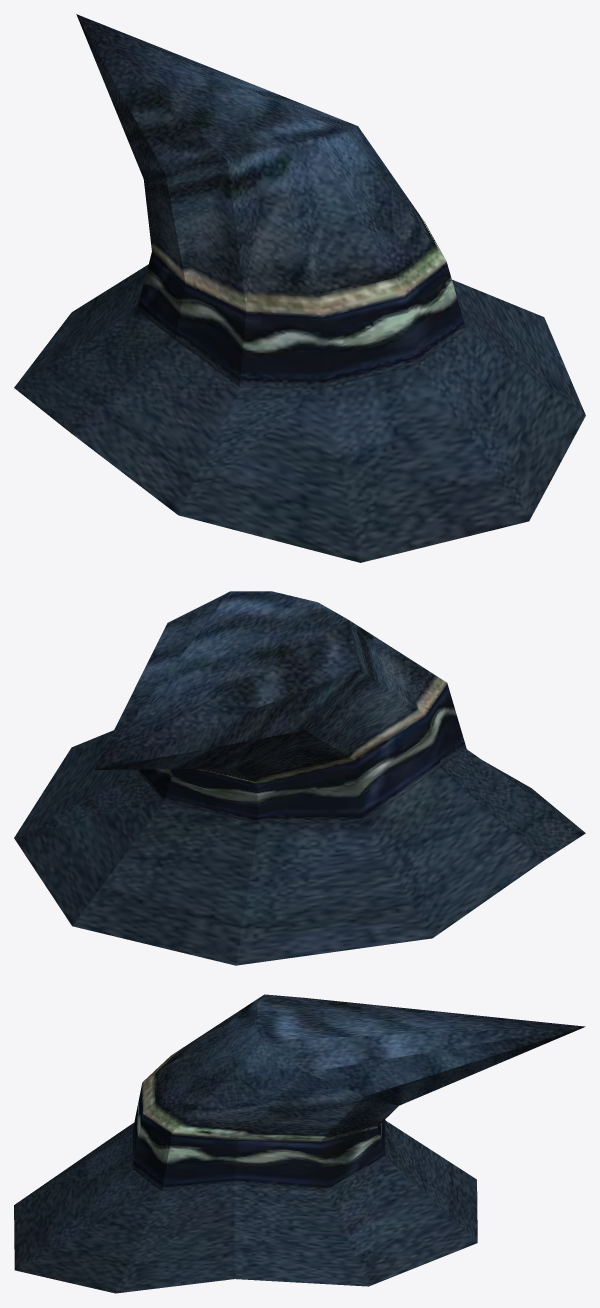
The model's file is MERLINHUT_KDW.glb.
The picture shows the model from 3 angles, top to bottom: view 1: azimuth 30°, elevation 25°; view 2: azimuth 150°, elevation 25°; view 3: azimuth 270°, elevation 25°; orthographic projection. The views are drawn at different scales.
Visible parts, largest first — view 1: MERLINHUT_KDW; view 2: MERLINHUT_KDW; view 3: MERLINHUT_KDW.
Part boxes in pixels (x1,y1,x2,y2): MERLINHUT_KDW: [14, 14, 585, 562]; MERLINHUT_KDW: [14, 591, 585, 965]; MERLINHUT_KDW: [14, 994, 585, 1293].
Bounding box in the file's own units: 0.3421 × 0.1965 × 0.4527.
Materials: 1 (1 with a texture image).
